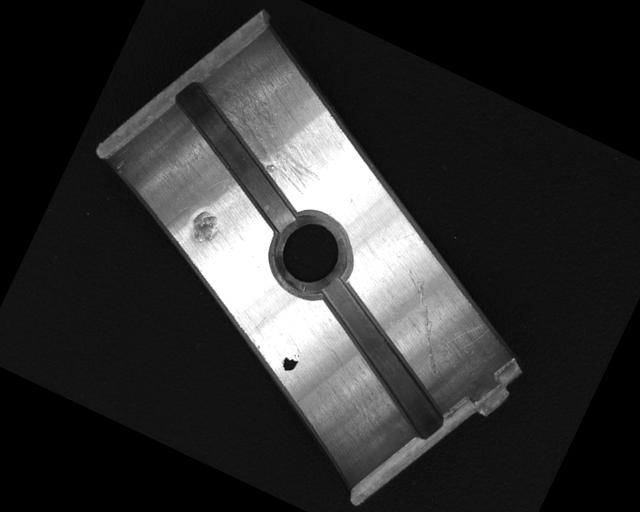blot: (278, 353, 300, 375)
bruise: (185, 206, 225, 248)
gap: (286, 275, 480, 443), (144, 76, 331, 233)
hole: (258, 199, 365, 309)
nick: (371, 266, 475, 377)
scratch: (185, 45, 376, 210)
